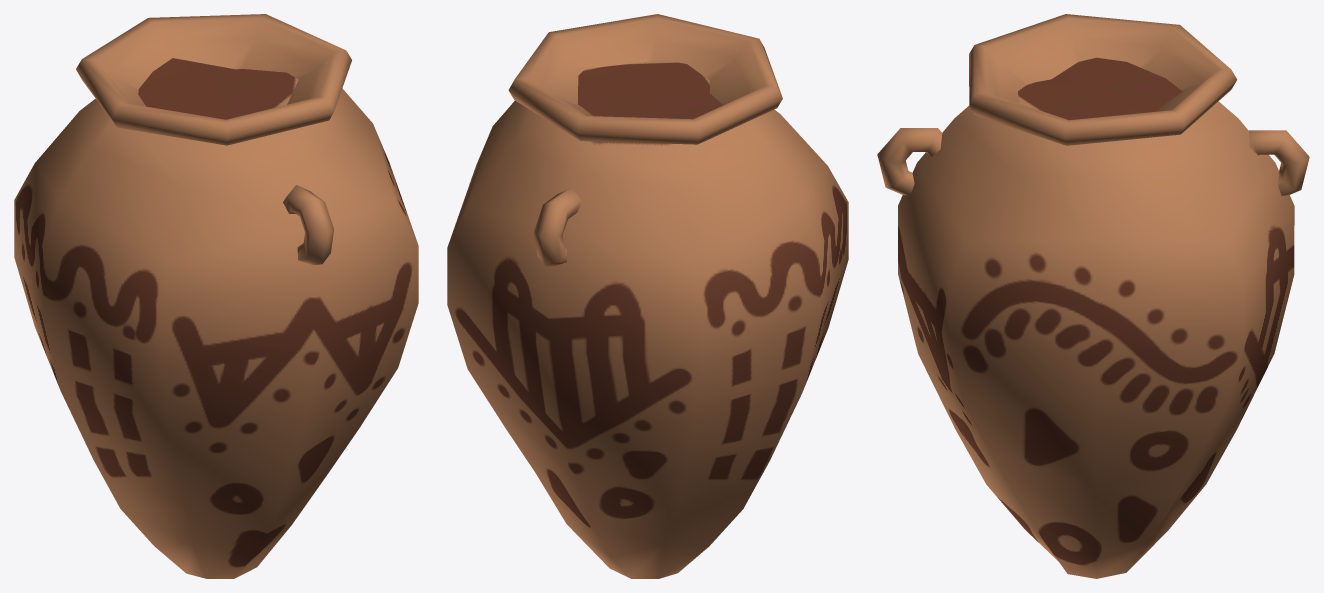
File: EgyptianPottery.glb
3 views of the same model, side by side, from view 1: azimuth 30°, elevation 25°; view 2: azimuth 150°, elevation 25°; view 3: azimuth 270°, elevation 25° (orthographic).
Parts seen in each view (by area): view 1: EgyptianPottery; view 2: EgyptianPottery; view 3: EgyptianPottery.
Part boxes in pixels (x1,y1,x2,y2): EgyptianPottery: [14, 14, 418, 578]; EgyptianPottery: [447, 14, 848, 578]; EgyptianPottery: [877, 14, 1309, 578].
Size of the model in its own units: 0.3144 by 0.4354 by 0.3429.
1 material, 1 textured.
